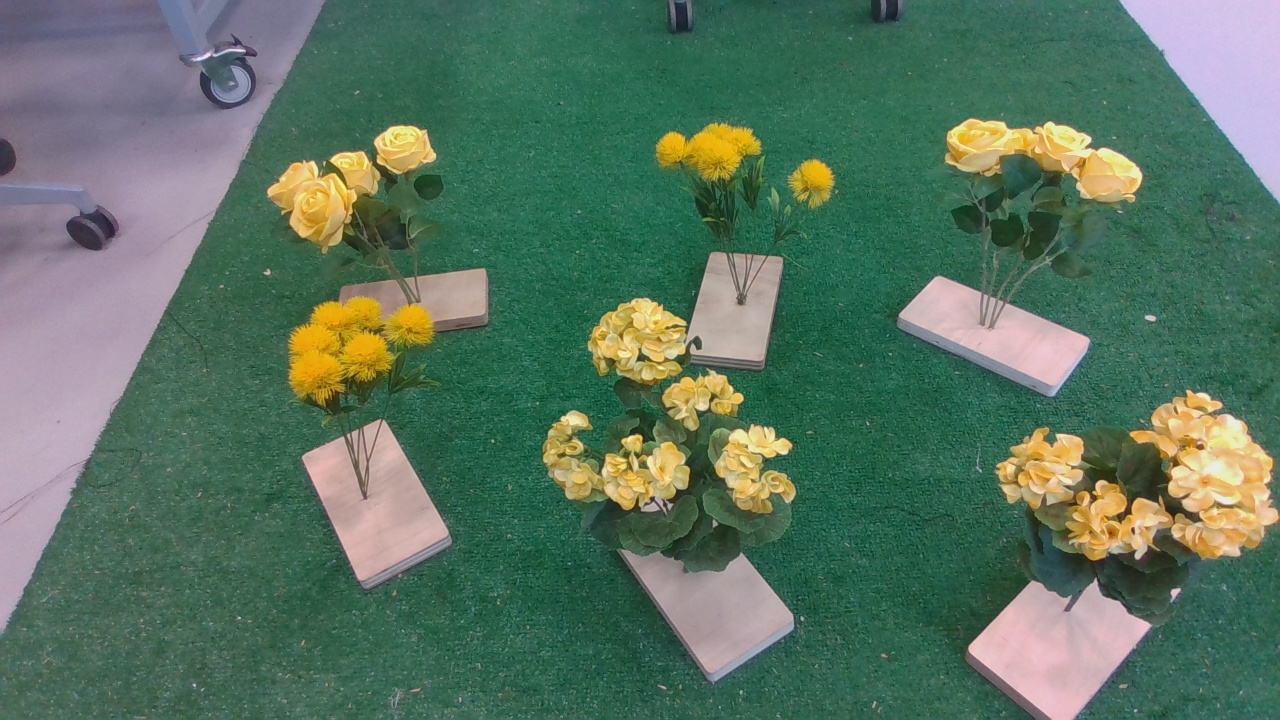dandelion: (640, 121, 847, 247), (280, 295, 444, 430)
geranium: (528, 298, 808, 571), (995, 387, 1280, 601)
rose: (923, 111, 1154, 291), (264, 125, 459, 281)
